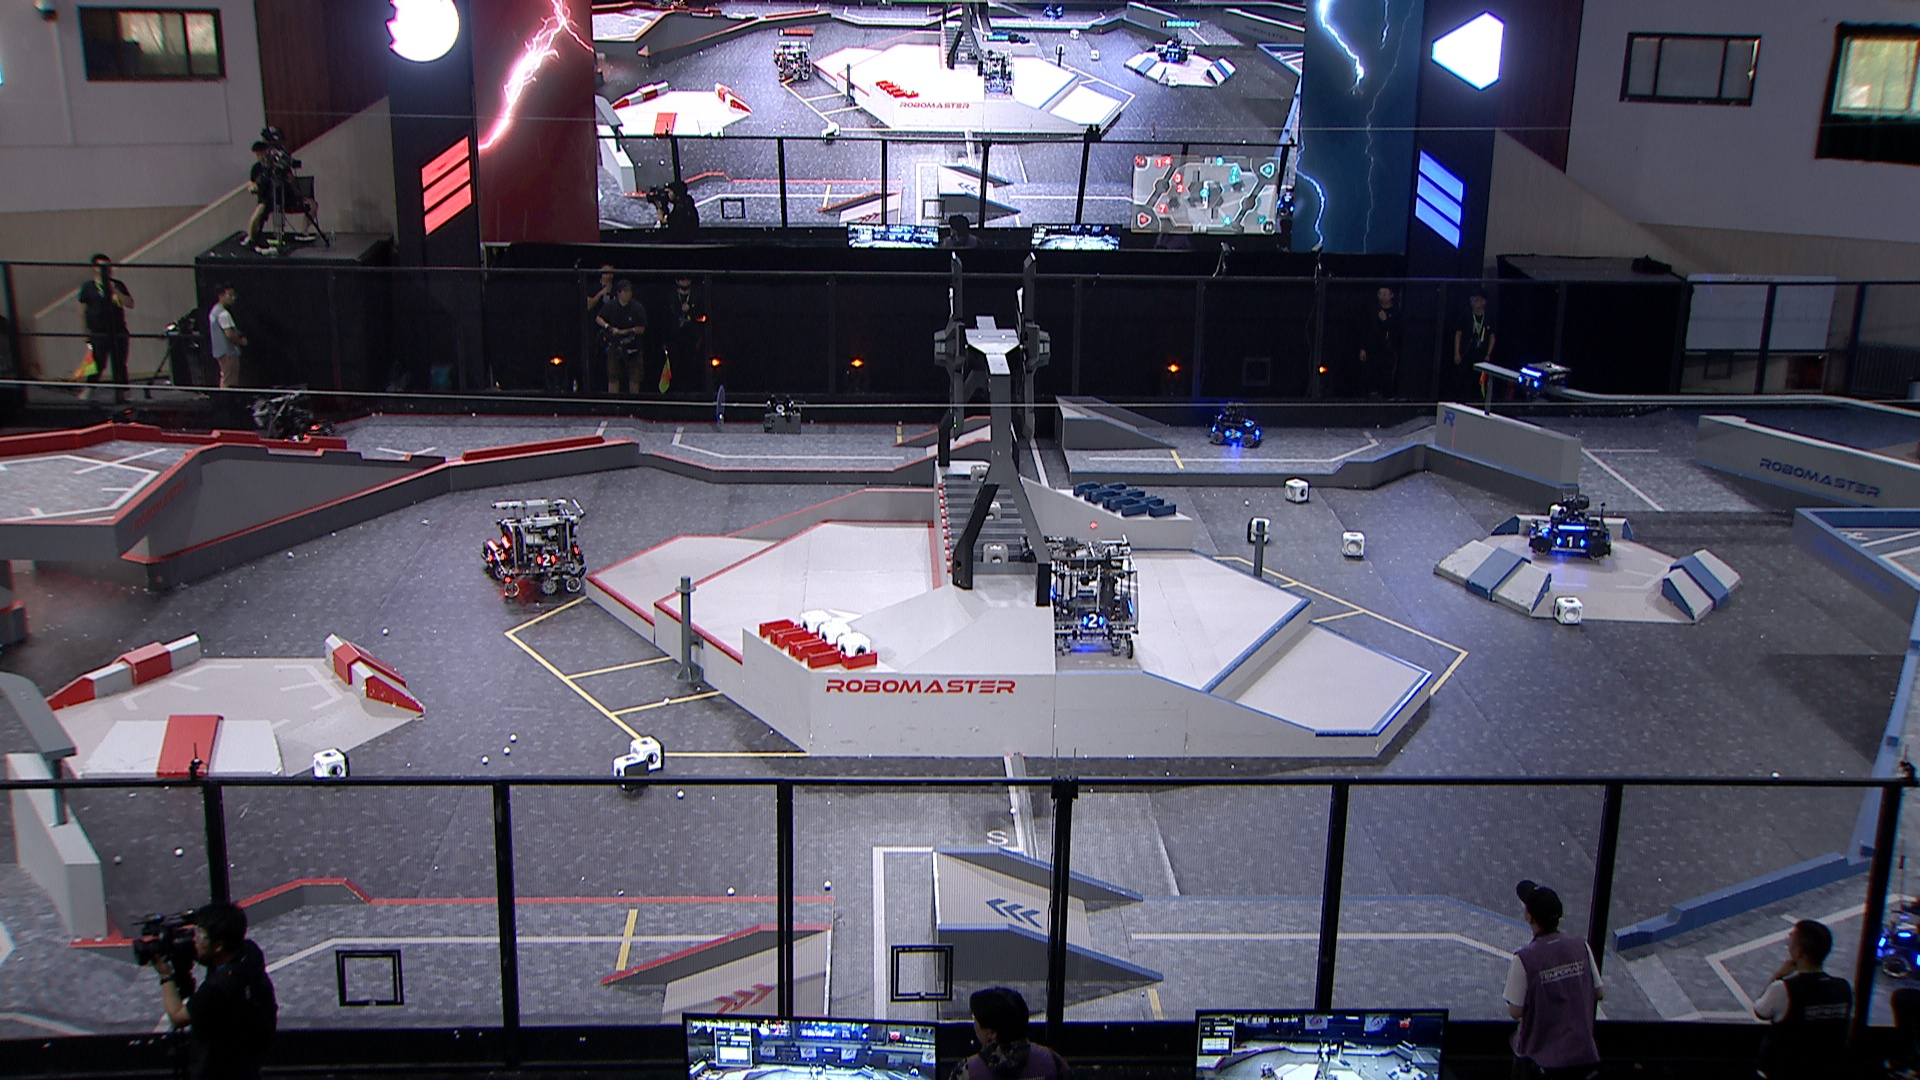armor: (1894, 913, 1917, 940), (1557, 534, 1586, 550), (1081, 613, 1106, 629), (281, 433, 310, 446), (534, 551, 556, 566), (1516, 375, 1542, 386), (1536, 517, 1553, 533), (495, 545, 508, 564), (1225, 427, 1244, 439), (1244, 415, 1255, 429)
car: (1034, 533, 1143, 655), (487, 495, 589, 603), (245, 385, 335, 469), (1524, 493, 1611, 560), (1871, 882, 1920, 986), (1207, 401, 1263, 448)
ignore: (771, 38, 812, 86), (978, 49, 1015, 96), (1156, 36, 1185, 62)
watcher: (1510, 360, 1567, 418)
